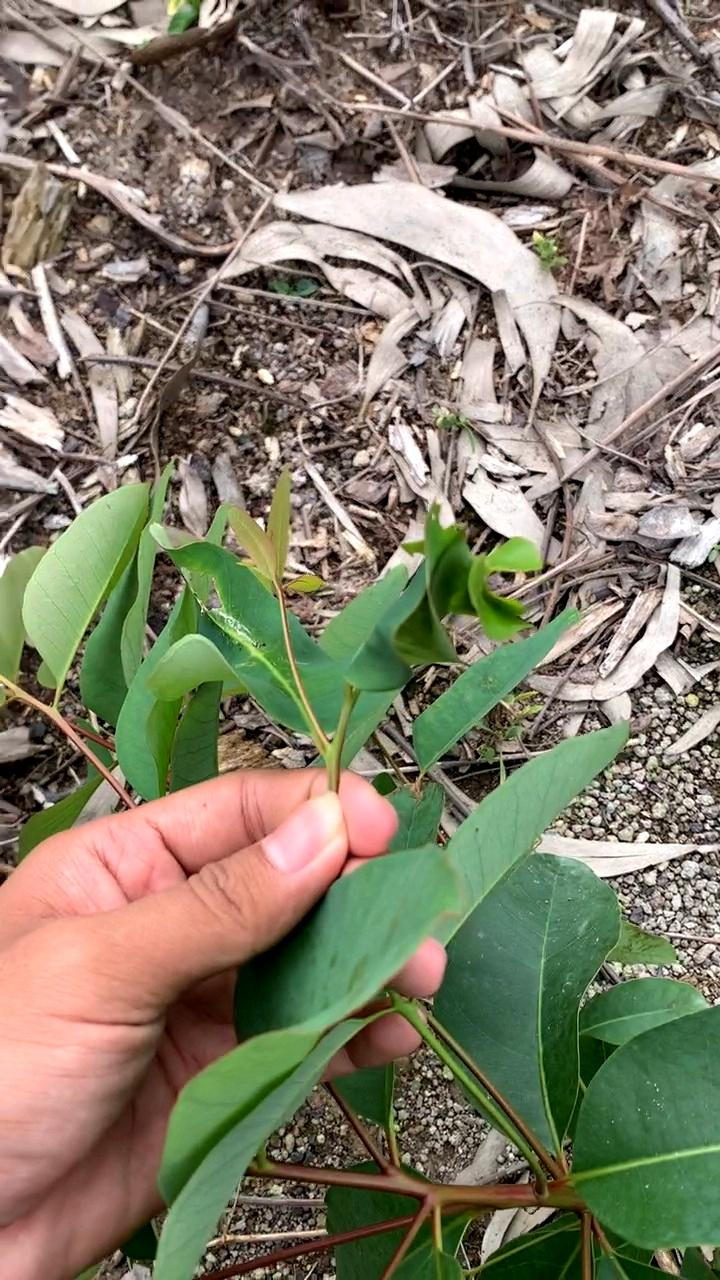Leaf Roller - Leaf: (323, 493, 558, 714)
